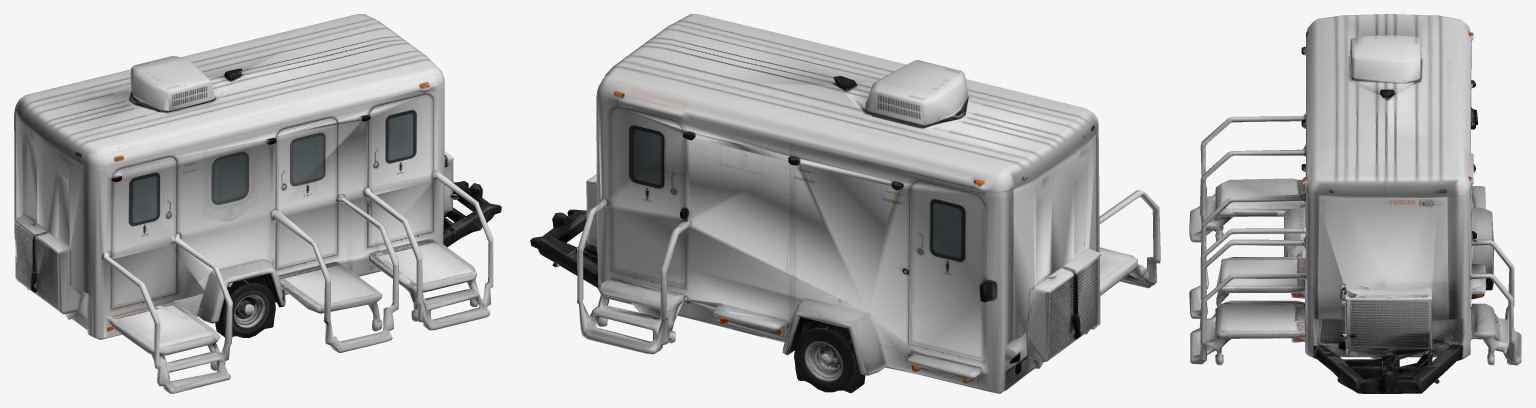
Rendered from portable_restroom_trailer_0125184810_texture.glb.
The picture shows the model from 3 angles, left to right: view 1: azimuth 30°, elevation 25°; view 2: azimuth 150°, elevation 25°; view 3: azimuth 270°, elevation 25°; orthographic projection. The views are drawn at different scales.
Visible parts, largest first — view 1: Mesh_0; view 2: Mesh_0; view 3: Mesh_0.
Part boxes in pixels (bbox=[...]): Mesh_0: bbox=[14, 14, 501, 393]; Mesh_0: bbox=[530, 14, 1160, 393]; Mesh_0: bbox=[1189, 14, 1521, 393].
Size of the model in its own units: 5.28 by 2.59 by 3.46.
Materials: 1 (1 with a texture image).
